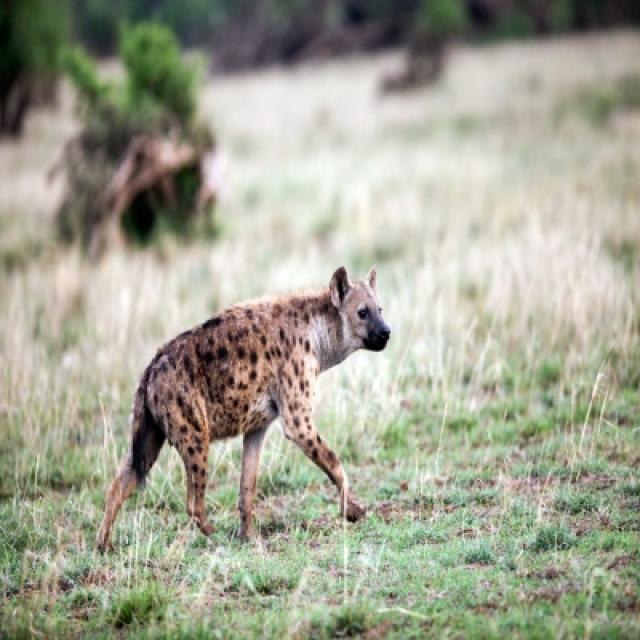hyena: (96, 269, 392, 552)
